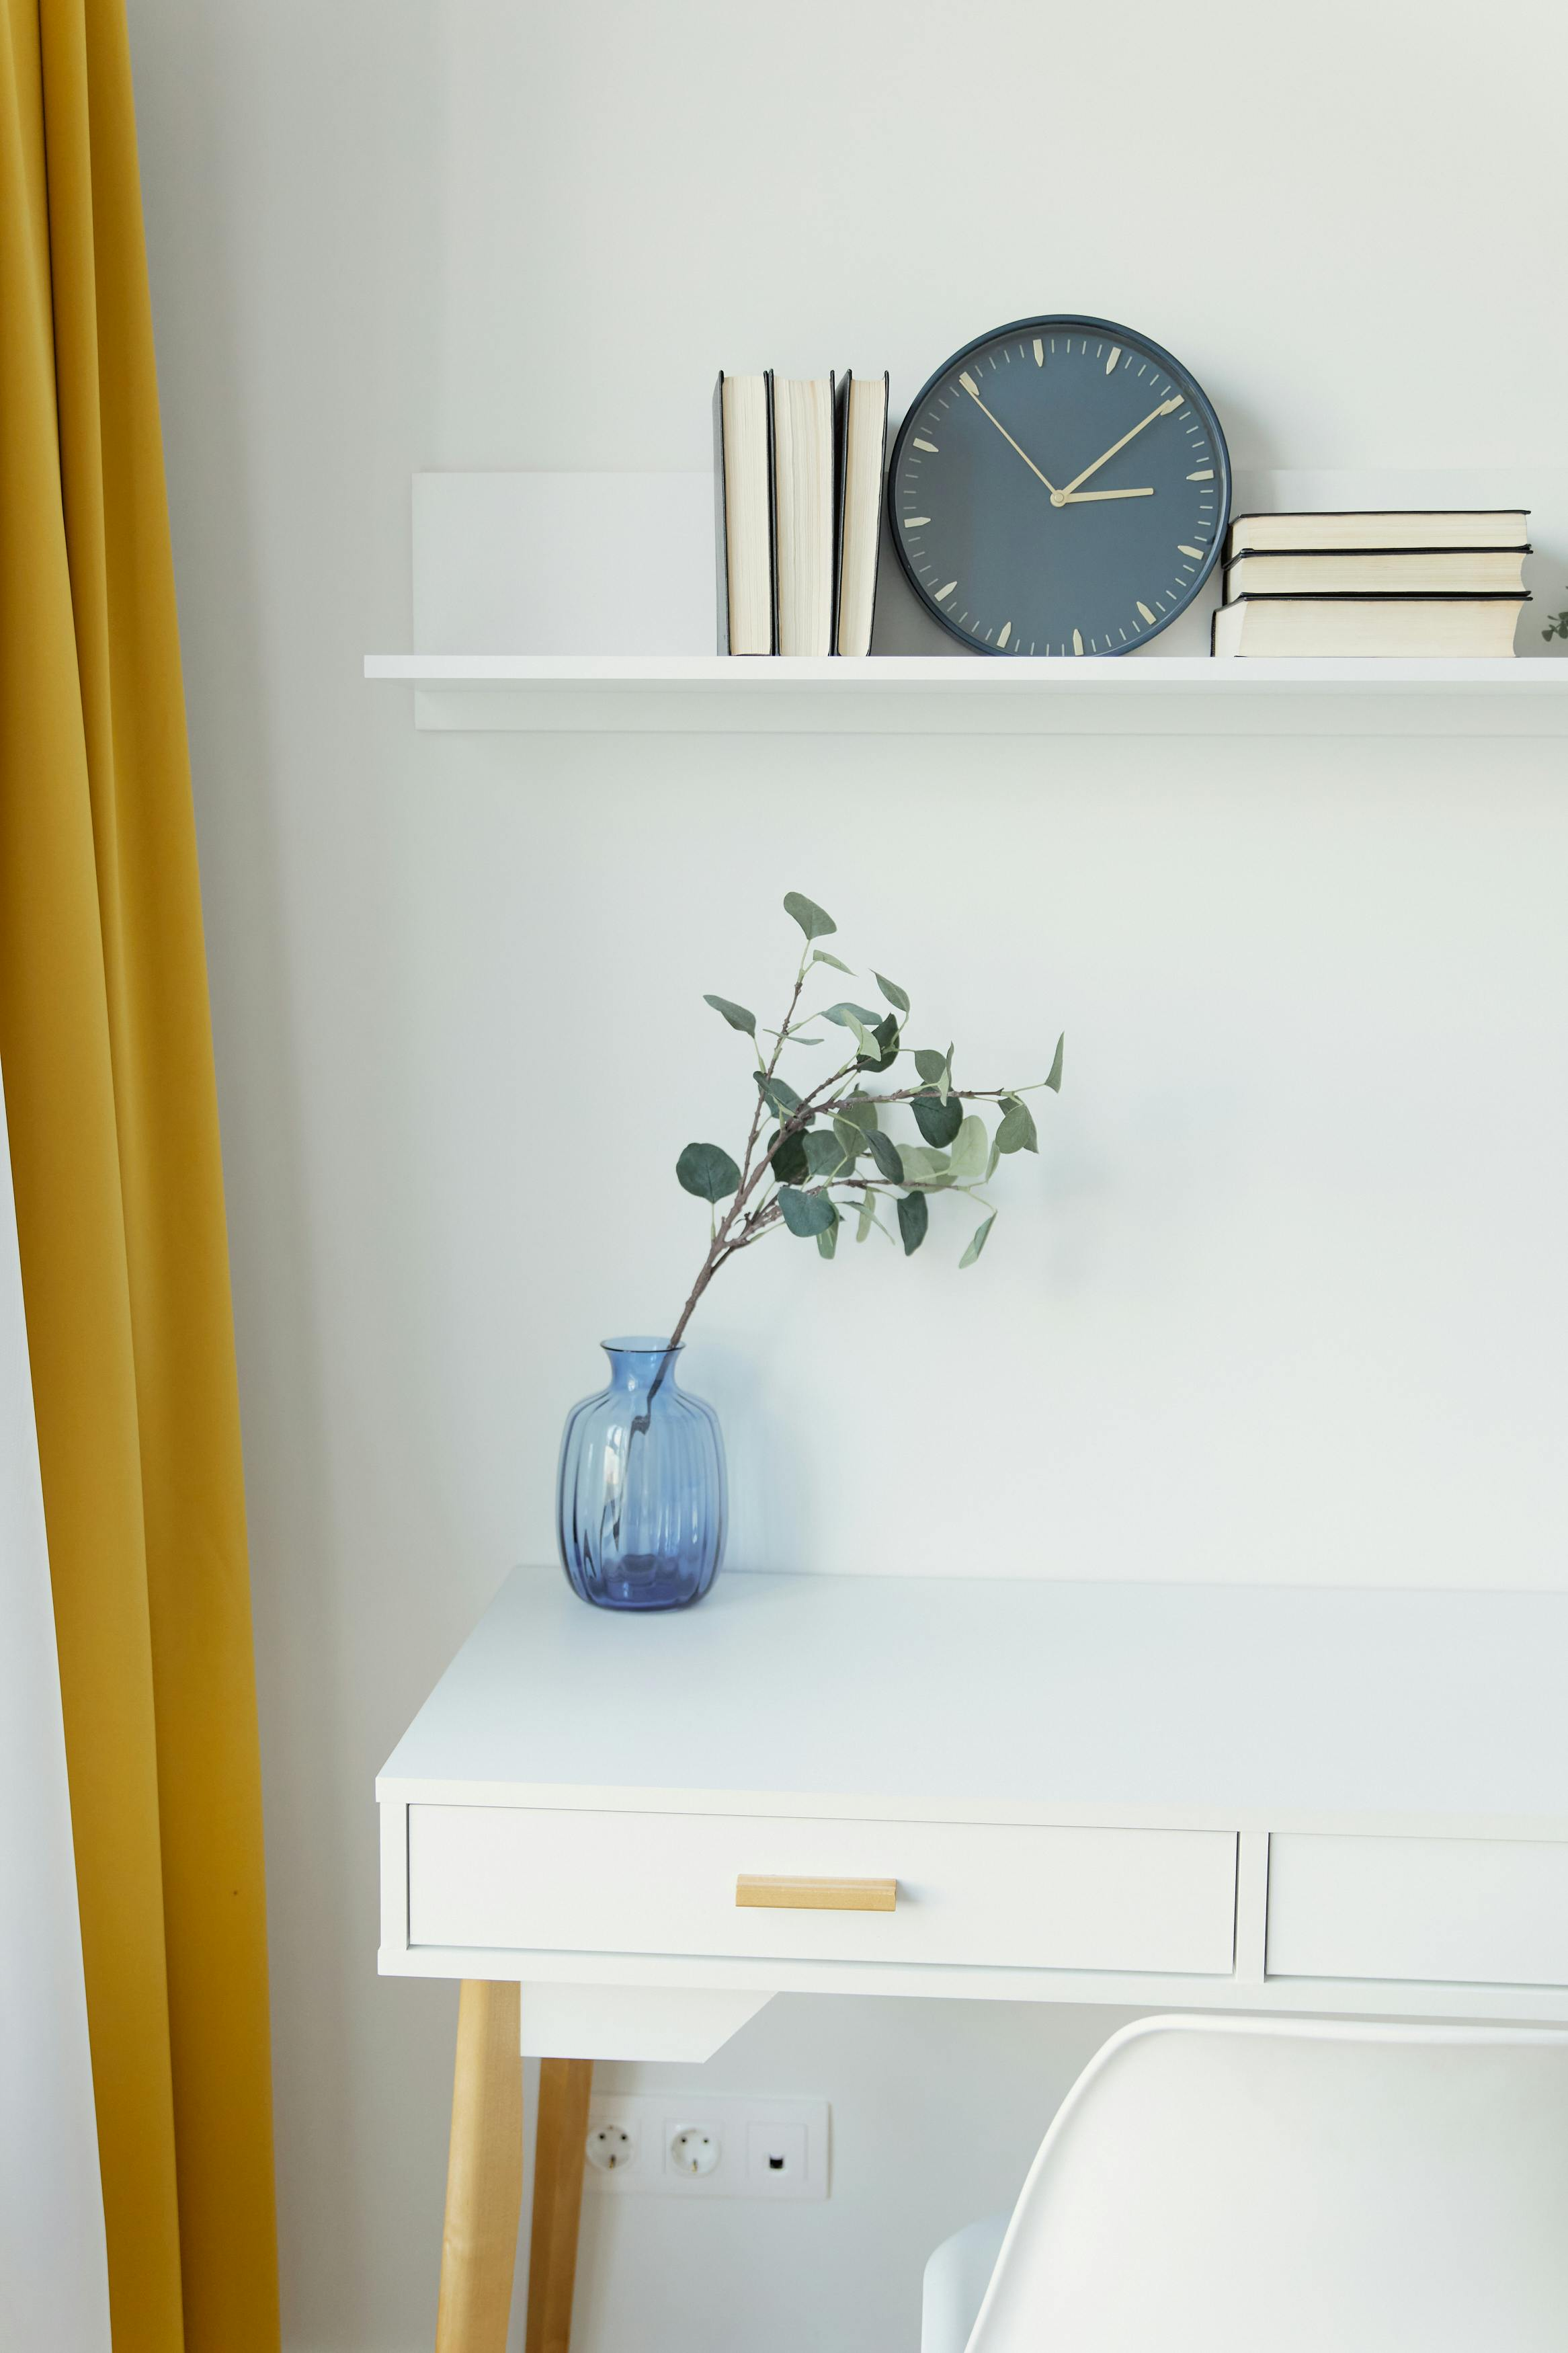clock: (880, 287, 1277, 667)
